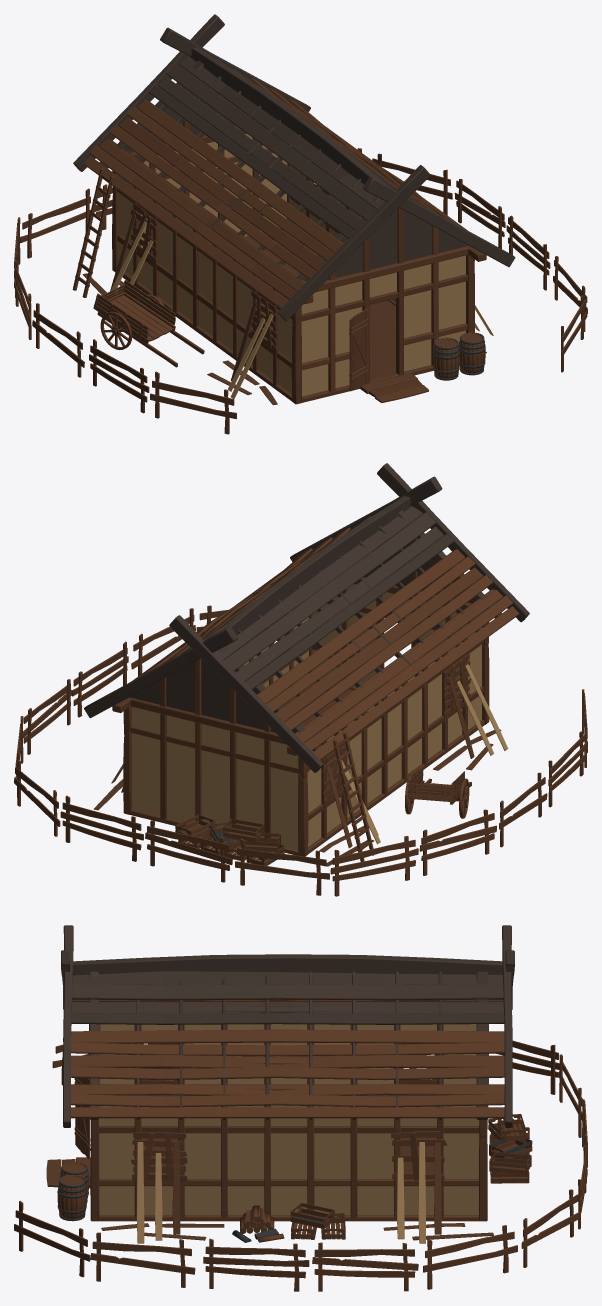
Rendered from house-003.glb.
3 renders of one model, top to bottom at view 1: azimuth 30°, elevation 25°; view 2: azimuth 150°, elevation 25°; view 3: azimuth 270°, elevation 25°, orthographic. The views are drawn at different scales.
Parts seen in each view (by area): view 1: house-003-timber, house-003-roof, house-003-wall, house-003-metal; view 2: house-003-timber, house-003-roof, house-003-wall; view 3: house-003-timber, house-003-roof, house-003-wall, house-003-metal.
Part boxes in pixels (x1,y1,x2,y2): house-003-timber: [14, 78, 587, 434]; house-003-roof: [73, 14, 515, 321]; house-003-wall: [109, 133, 493, 398]; house-003-metal: [433, 332, 485, 380]; house-003-timber: [14, 527, 587, 896]; house-003-roof: [84, 463, 529, 772]; house-003-wall: [111, 584, 508, 849]; house-003-timber: [14, 999, 587, 1291]; house-003-roof: [61, 925, 514, 1127]; house-003-wall: [99, 1024, 479, 1243]; house-003-metal: [57, 1134, 532, 1242].
Bounding box in the file's own units: 13.01 × 6.08 × 13.29.
